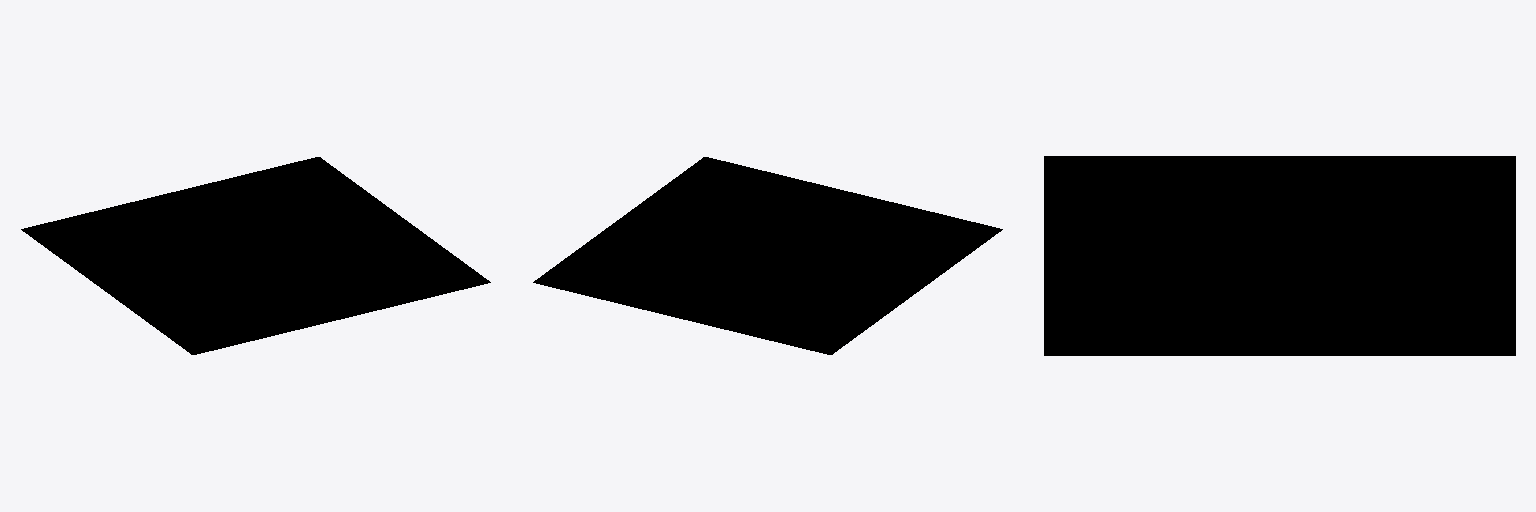
The robot description file, URDF, robot "plane":
<?xml version="0.0" ?>
<robot name="plane">
  <link name="planeLink">
  <contact>
      <lateral_friction value="1"/>
  </contact>
    <inertial>
      <origin rpy="0 0 0" xyz="0 0 0"/>
       <mass value=".0"/>
       <inertia ixx="0" ixy="0" ixz="0" iyy="0" iyz="0" izz="0"/>
    </inertial>
    <visual>
      <origin rpy="0 0 0" xyz="0 0 0"/>
      <geometry>
				<mesh filename="plane.obj" scale="1 1 1"/>
      </geometry>
       <material name="black">
        <color rgba="0 0 0 .5"/>
      </material>
    </visual>
    <collision>
      <origin rpy="0 0 0" xyz="0 0 -5"/>
      <geometry>
	 	   <box size="30 30 10"/>
      </geometry>
    </collision>
  </link>
</robot>

--- What the picture shows (computed from the rendered views, not written in the file) ---
3 views of the same robot in one strip: view 1: azimuth 30°, elevation 25°; view 2: azimuth 150°, elevation 25°; view 3: azimuth 270°, elevation 25° (orthographic).
Model plane with 1 links and 0 joints (none), rooted at planeLink, posed every joint at zero.
Visible links, largest first — view 1: planeLink; view 2: planeLink; view 3: planeLink.
Link boxes in pixels (x1,y1,x2,y2): planeLink: (21, 157, 490, 354); planeLink: (533, 157, 1002, 354); planeLink: (1044, 156, 1515, 355).
Bounding box of the posed robot: 1000 × 1000 × 0 m (x, y, z).
1 mesh visuals loaded from 1 distinct referenced files (1 OBJ).
